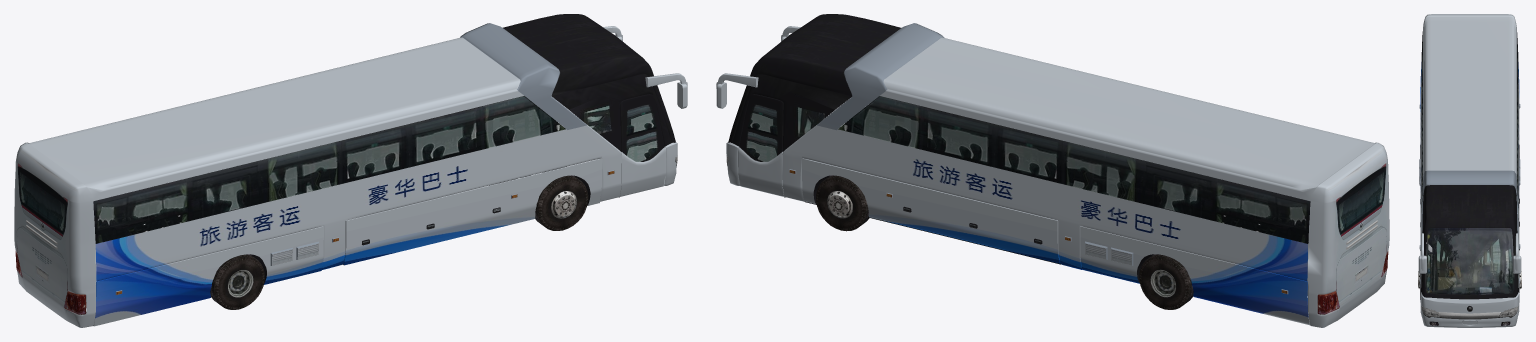
The model's file is daba.glb.
The picture shows the model from 3 angles, left to right: view 1: azimuth 30°, elevation 25°; view 2: azimuth 150°, elevation 25°; view 3: azimuth 270°, elevation 25°; orthographic projection. The views are drawn at different scales.
Visible parts, largest first — view 1: pCylinder30; view 2: pCylinder30; view 3: pCylinder30.
Part boxes in pixels (left/top/right/bottom): pCylinder30: left=14, top=14, right=687, bottom=327; pCylinder30: left=716, top=14, right=1389, bottom=327; pCylinder30: left=1418, top=14, right=1521, bottom=327.
Size of the model in its own units: 13.39 by 3.44 by 2.7.
Materials: 2 (1 with a texture image).
